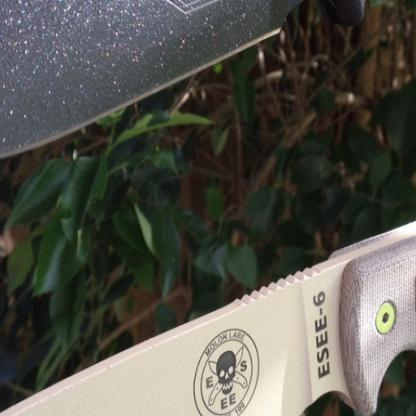knife: (0, 184, 415, 415), (0, 0, 415, 167)
